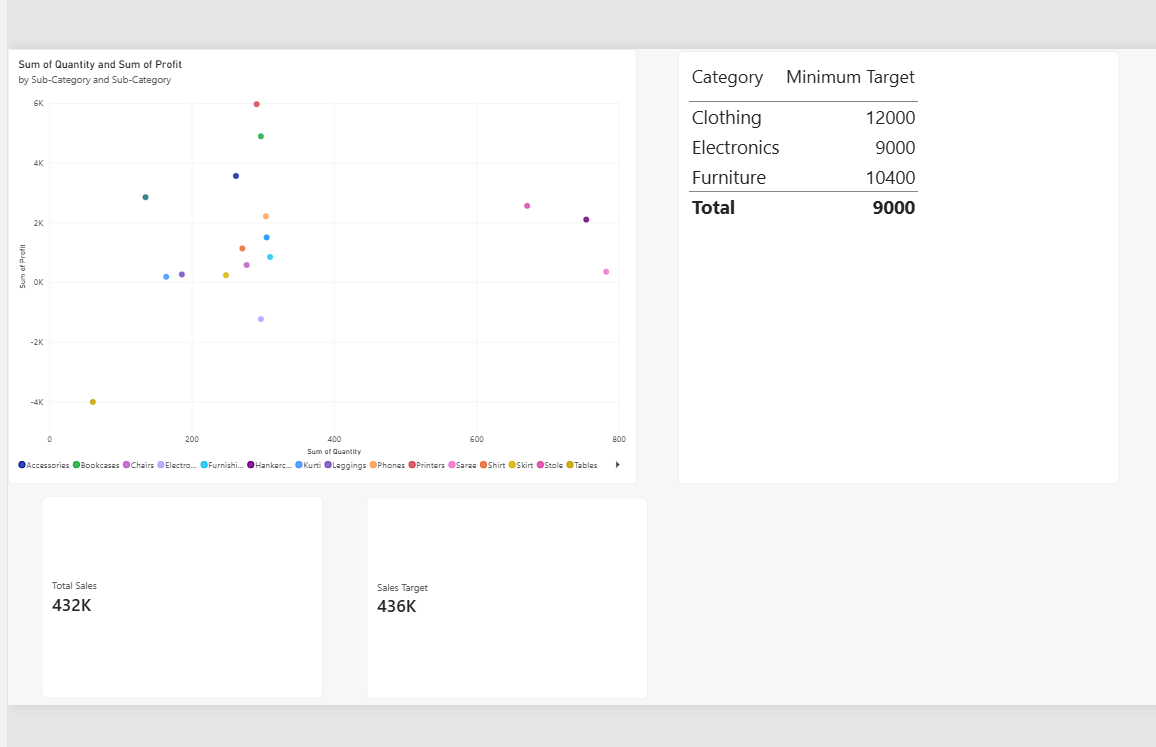

The dashboard page shown, as its layout file describes it:
{"tool":"powerbi","page":{"name":"Scatter/ Cards","canvas":[1920,1080],"ordinal":2},"visuals":[{"type":"scatterChart","fields":{"Category":["Order Details.Sub-Category"],"Series":["Order Details.Sub-Category"],"X":["Sum(Order Details.Quantity)"],"Y":["Sum(Order Details.Profit)"]},"box":[0,0,1035.3,716.3],"z":0},{"type":"cardVisual","fields":{"Data":["Order Details.Total Sales"]},"box":[55.6,736.9,463.1,331.4],"z":1},{"type":"cardVisual","fields":{"Data":["Sales target.Sales Target"]},"box":[590.7,738.9,463.1,331.4],"z":2},{"type":"tableEx","fields":{"Values":["Sales target.Category","Sales target.Minimum Target"]},"box":[1103.3,4.1,726.6,712.2],"z":3}]}

Visuals, with their boxes on the page's 1920x1080 design canvas (x1, y1, x2, y2). These are canvas units, not pixel positions in the 1156x747 screenshot, which may show the page scaled, cropped or inside an application window:
scatterChart - Order Details.Sub-Category x Order Details.Sub-Category: 0:0:1035:716
cardVisual - Order Details.Total Sales: 56:737:519:1068
cardVisual - Sales target.Sales Target: 591:739:1054:1070
tableEx - Sales target.Category x Sales target.Minimum Target: 1103:4:1830:716
